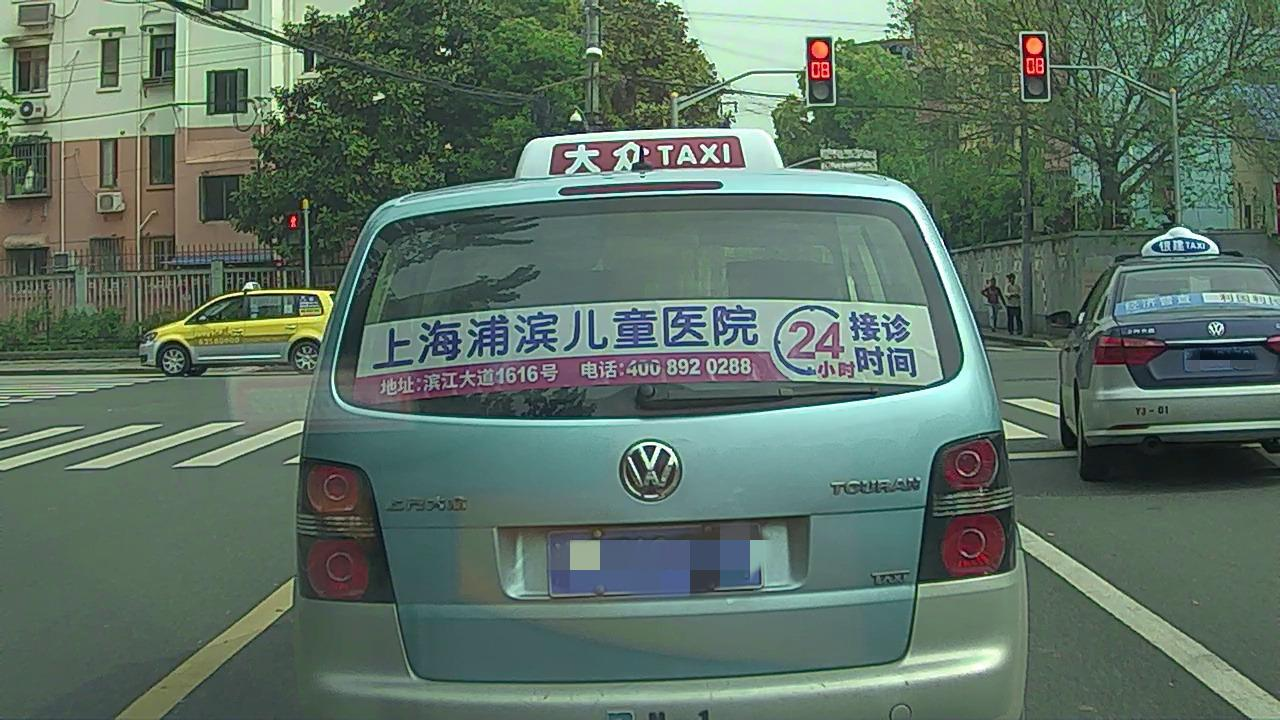traffic_light: (1023, 34, 1049, 98), (809, 38, 833, 104)
